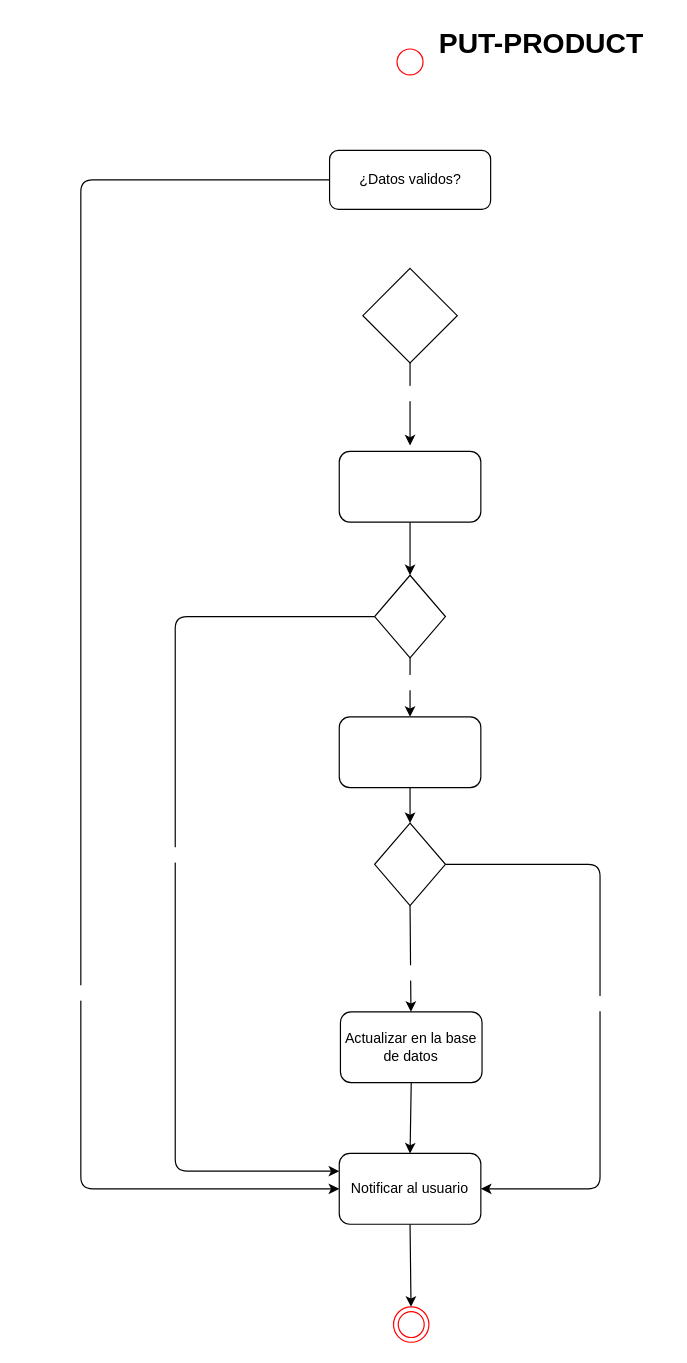
This 687x1363 diagram has some shape labels left out. Each missing label, with the centre of its shape:
"Comprobamos que existe el producto" belongs at point (409, 486).
"Comprobar que los datos son actualizables" belongs at point (409, 752).
